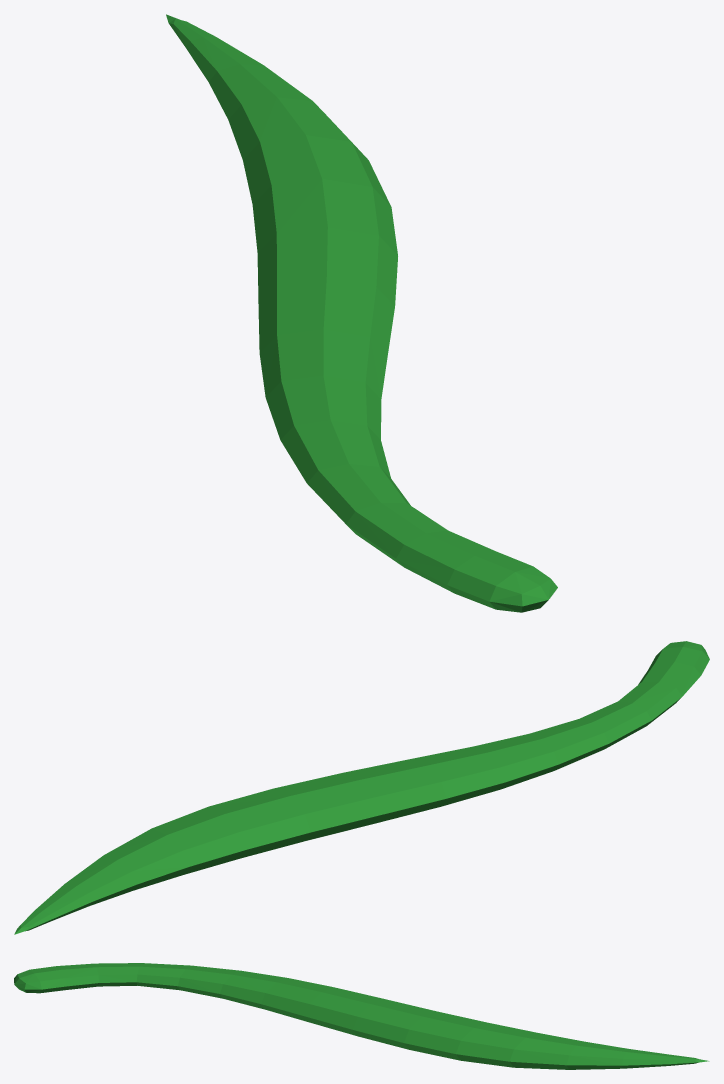
Rendered from SM_Grass_06.fbx.
3 views of the same model, one above another, from view 1: azimuth 30°, elevation 25°; view 2: azimuth 150°, elevation 25°; view 3: azimuth 270°, elevation 25° (orthographic). The views are drawn at different scales.
Parts seen in each view (by area): view 1: SM_Grass_06; view 2: SM_Grass_06; view 3: SM_Grass_06.
Part boxes in pixels (x1,y1,x2,y2): SM_Grass_06: [166, 14, 557, 612]; SM_Grass_06: [14, 641, 709, 934]; SM_Grass_06: [14, 963, 709, 1069].
Size of the model in its own units: 140 by 47.28 by 6.2.
